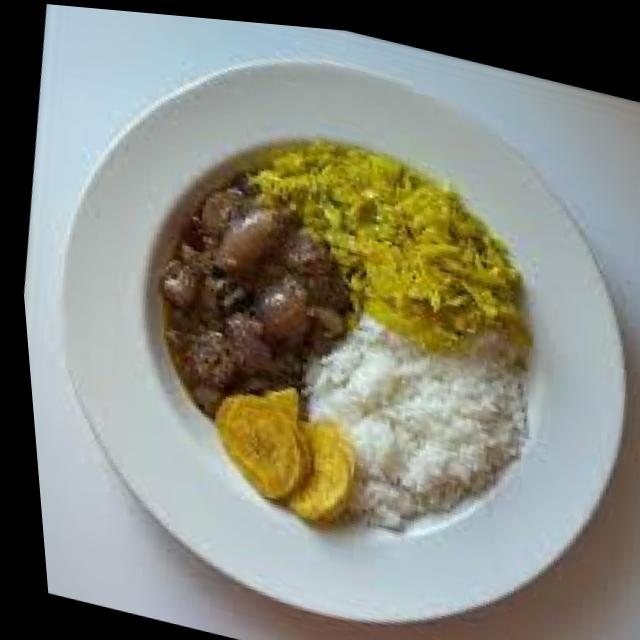BANANA CHIPS: (212, 387, 363, 529)
CURRY: (163, 175, 354, 397)
RICE: (295, 314, 533, 531)
VEGGIES: (245, 146, 531, 335)
